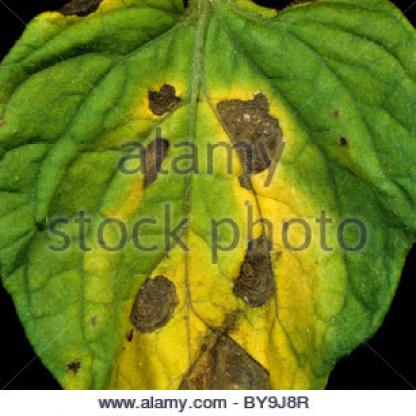potato leaf early blight: (3, 1, 413, 389)
